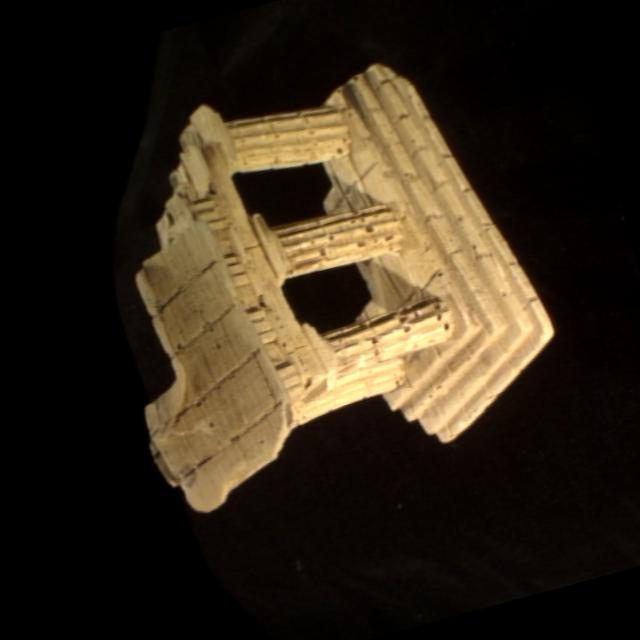Instance-Segmentation: (137, 64, 551, 510)
